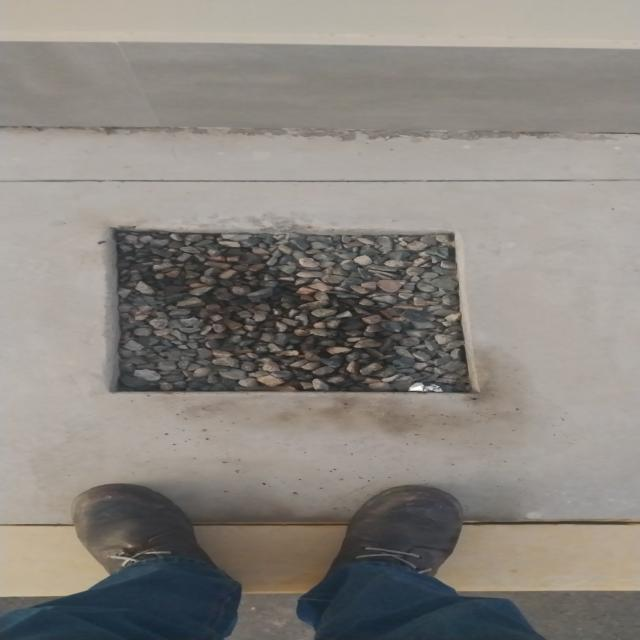hole: (71, 206, 496, 408)
